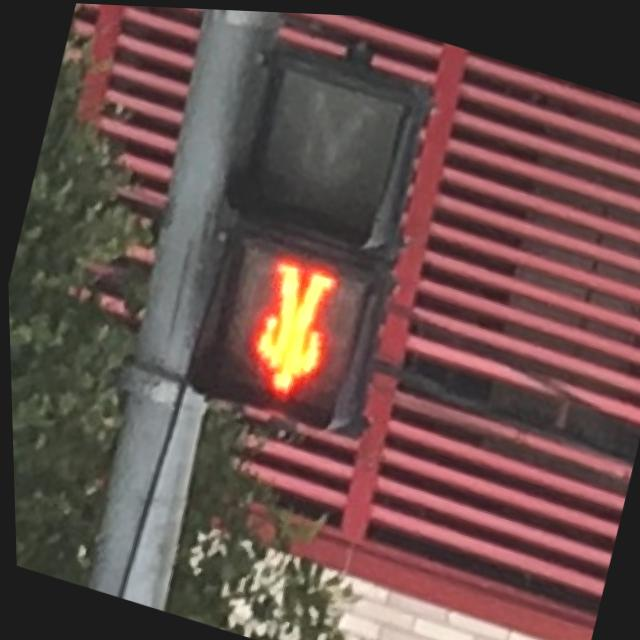red_light: (217, 239, 363, 419)
